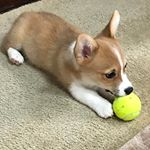puppy: (1, 7, 142, 123)
